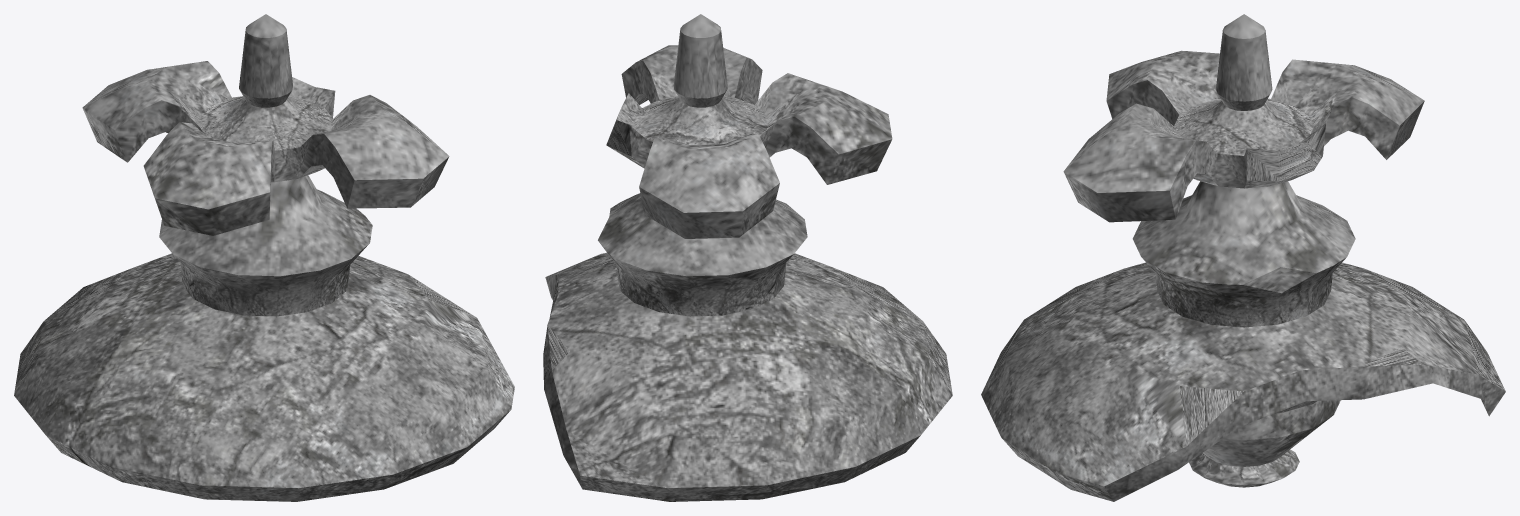
The model's file is materials_3_rubble_17.fbx.
3 views of the same model, side by side, from view 1: azimuth 30°, elevation 25°; view 2: azimuth 150°, elevation 25°; view 3: azimuth 270°, elevation 25° (orthographic). The views are drawn at different scales.
Visible parts, largest first — view 1: materials_3_rubble_17; view 2: materials_3_rubble_17; view 3: materials_3_rubble_17.
Boxes of the visible parts, bbox=[...] form: materials_3_rubble_17: bbox=[14, 14, 514, 501]; materials_3_rubble_17: bbox=[543, 14, 952, 501]; materials_3_rubble_17: bbox=[981, 14, 1505, 501].
Size of the model in its own units: 49.74 by 52.02 by 54.12.
